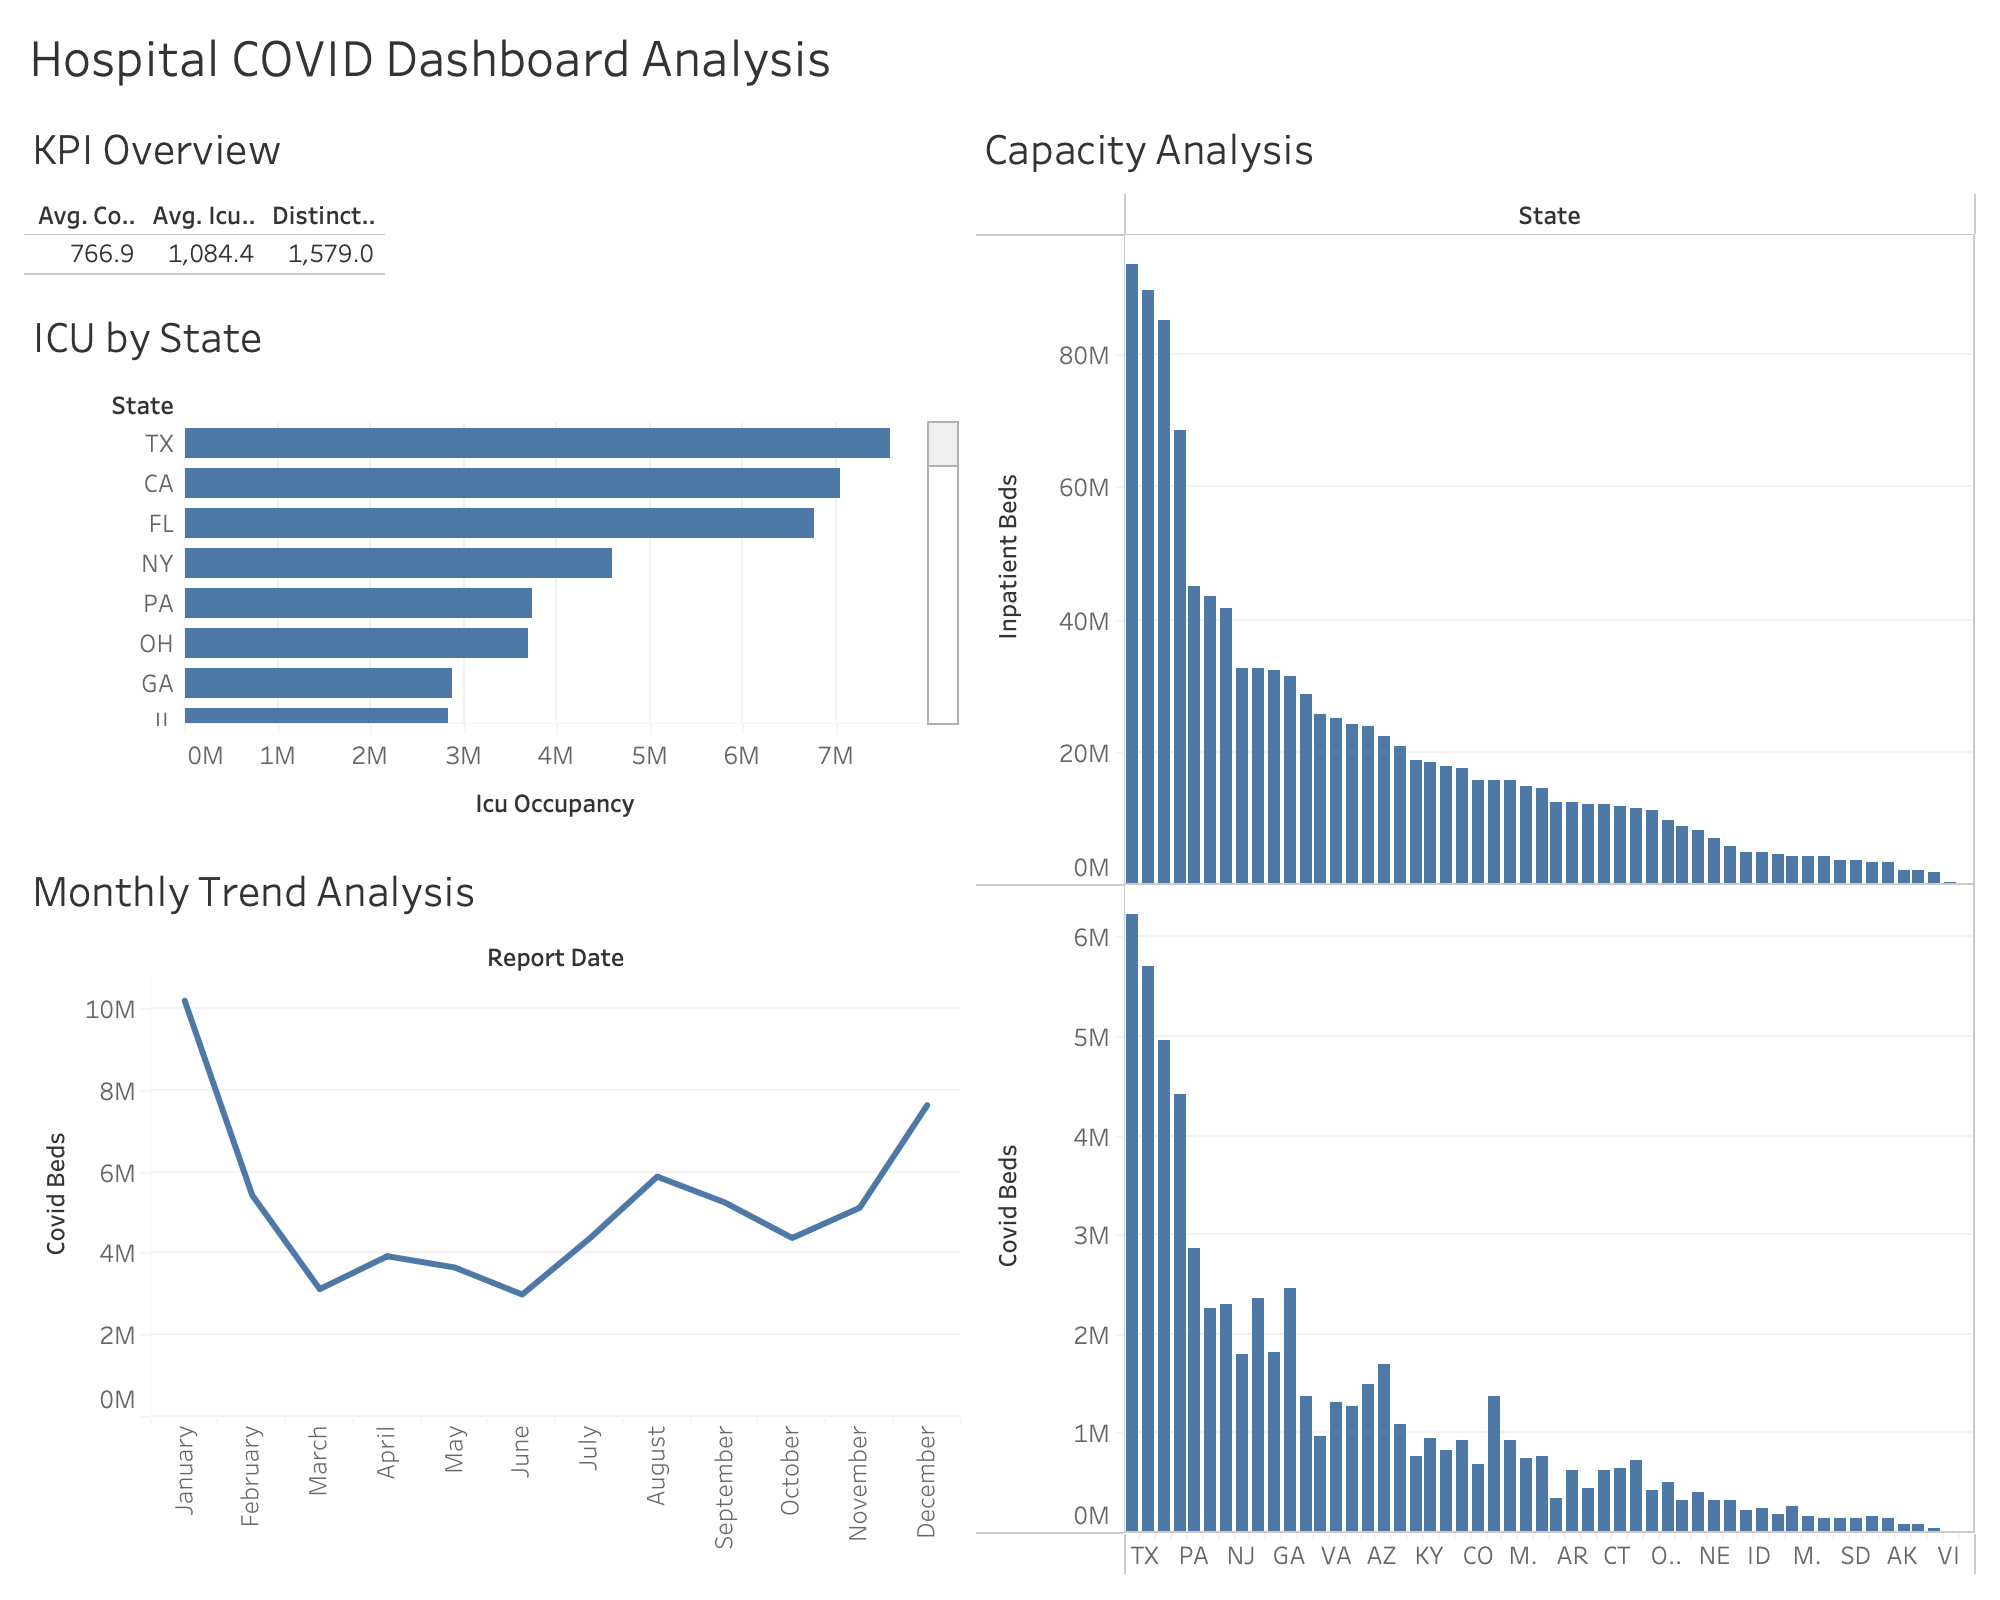

The dashboard page shown, as its layout file describes it:
{"tool":"tableau","page":{"name":"Hospital COVID Dashboard Analysis","canvas":[1000,800],"ordinal":0},"visuals":[{"type":"title","box":[8,8,984,42]},{"type":"worksheet","title":"KPI Overview","mark":"Text","box":[8,50,476,94]},{"type":"worksheet","title":"Capacity Analysis","mark":"Automatic","rows":["inpatient_beds","covid_beds"],"cols":["state"],"box":[484,50,508,742]},{"type":"worksheet","title":"ICU by State","mark":"Automatic","rows":["state"],"cols":["icu_occupancy"],"box":[8,144,476,277]},{"type":"worksheet","title":"Monthly Trend Analysis","mark":"Automatic","rows":["covid_beds"],"cols":["report_date"],"box":[8,421,476,371]}]}

Visuals, with their boxes in screenshot pixels (x1, y1, x2, y2), scaled from the page's 1000x800 canvas onto the 2000x1600 screenshot:
title: {"left": 16, "top": 16, "right": 1984, "bottom": 100}
"KPI Overview" worksheet (Text marks): {"left": 16, "top": 100, "right": 968, "bottom": 288}
"Capacity Analysis" worksheet: {"left": 968, "top": 100, "right": 1984, "bottom": 1584}
"ICU by State" worksheet: {"left": 16, "top": 288, "right": 968, "bottom": 842}
"Monthly Trend Analysis" worksheet: {"left": 16, "top": 842, "right": 968, "bottom": 1584}
